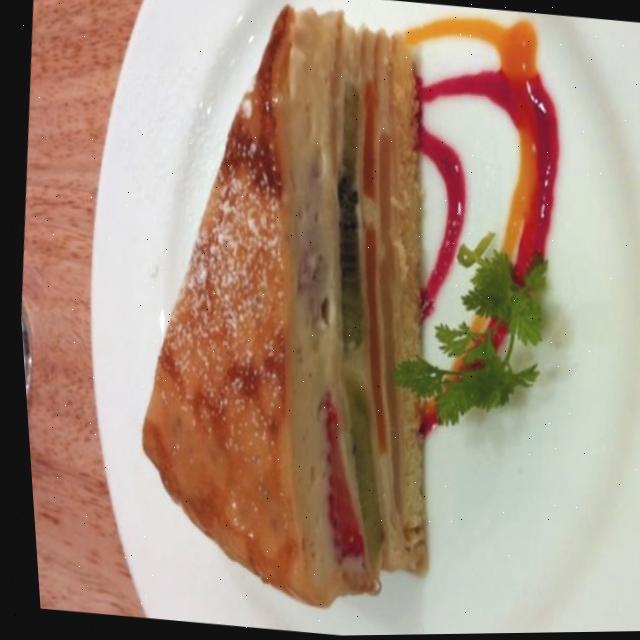米饭主食: (4, 82, 261, 626)
